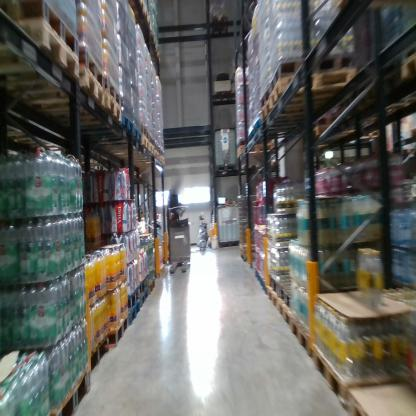pallet: (312, 339, 412, 401), (3, 17, 84, 90), (9, 63, 112, 108), (23, 83, 122, 127), (11, 6, 84, 63), (264, 67, 360, 110), (269, 58, 351, 100), (52, 356, 99, 414), (51, 111, 134, 141), (287, 314, 319, 374), (347, 384, 414, 411), (280, 281, 339, 308), (310, 125, 365, 151), (253, 115, 312, 138), (261, 97, 319, 119), (88, 124, 141, 147), (269, 269, 308, 298), (83, 41, 107, 88), (89, 333, 110, 381), (274, 298, 297, 338), (103, 134, 149, 154), (106, 316, 128, 348), (400, 46, 415, 88), (211, 164, 238, 179), (256, 85, 272, 109), (126, 301, 141, 326), (264, 282, 278, 307), (126, 286, 140, 310), (136, 288, 151, 308), (138, 118, 149, 141), (213, 91, 230, 105), (138, 278, 147, 298), (148, 277, 157, 294), (146, 142, 155, 159), (149, 135, 157, 148)
pallet_truck: (165, 204, 199, 274)
